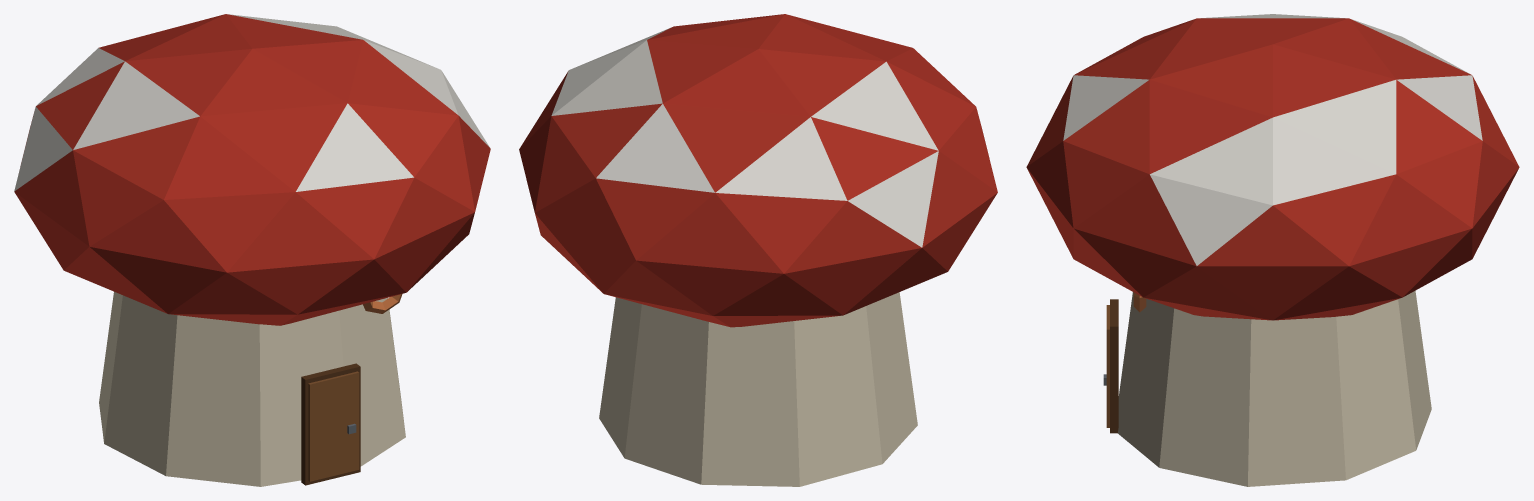
File: gnome_house_a_broken.glb
3 renders of one model, left to right at view 1: azimuth 30°, elevation 25°; view 2: azimuth 150°, elevation 25°; view 3: azimuth 270°, elevation 25°, orthographic.
Parts seen in each view (by area): view 1: gnome_house_a_piece4, gnome_house_a_piece9, gnome_house_a_piece1, gnome_house_a_piece7, gnome_house_a_piece6, gnome_house_a_piece3, gnome_house_a_piece0, gnome_house_a_piece2, gnome_house_a_piece10; view 2: gnome_house_a_piece3, gnome_house_a_piece1, gnome_house_a_piece6, gnome_house_a_piece7, gnome_house_a_piece8, gnome_house_a_piece10, gnome_house_a_piece4, gnome_house_a_piece0, gnome_house_a_piece5, gnome_house_a_piece2, gnome_house_a_piece9; view 3: gnome_house_a_piece2, gnome_house_a_piece7, gnome_house_a_piece1, gnome_house_a_piece3, gnome_house_a_piece10, gnome_house_a_piece9, gnome_house_a_piece0, gnome_house_a_piece8, gnome_house_a_piece5.
Part boxes in pixels (x1,y1,x2,y2): gnome_house_a_piece4: (62,120,371,447); gnome_house_a_piece9: (207,115,474,301); gnome_house_a_piece1: (99,219,470,486); gnome_house_a_piece7: (243,22,458,187); gnome_house_a_piece6: (14,107,248,368); gnome_house_a_piece3: (24,14,252,151); gnome_house_a_piece0: (187,26,275,113); gnome_house_a_piece2: (389,53,490,322); gnome_house_a_piece10: (234,17,298,33); gnome_house_a_piece3: (536,73,887,347); gnome_house_a_piece1: (671,312,917,486); gnome_house_a_piece6: (821,47,970,368); gnome_house_a_piece7: (537,14,857,173); gnome_house_a_piece8: (665,258,862,474); gnome_house_a_piece10: (530,65,695,461); gnome_house_a_piece4: (882,60,997,396); gnome_house_a_piece0: (692,45,874,85); gnome_house_a_piece5: (634,71,876,472); gnome_house_a_piece2: (519,36,650,423); gnome_house_a_piece9: (827,25,932,66); gnome_house_a_piece2: (1073,175,1436,483); gnome_house_a_piece7: (1076,36,1432,217); gnome_house_a_piece1: (1082,238,1431,486); gnome_house_a_piece3: (1239,15,1519,313); gnome_house_a_piece10: (1316,67,1472,475); gnome_house_a_piece9: (1026,22,1189,267); gnome_house_a_piece0: (1182,18,1354,78); gnome_house_a_piece8: (1407,290,1426,427); gnome_house_a_piece5: (1224,18,1424,444).
Size of the model in its own units: 2.19 by 1.93 by 2.3.
